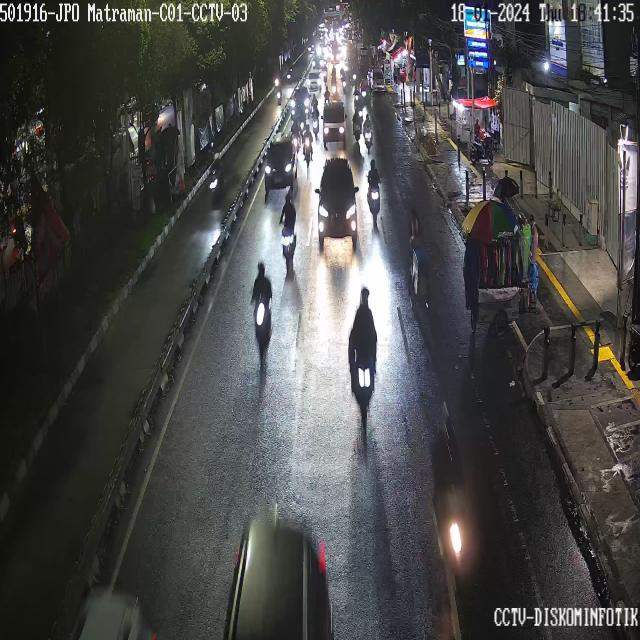Payung: (461, 201, 523, 242)
Terpal: (457, 76, 506, 114)
